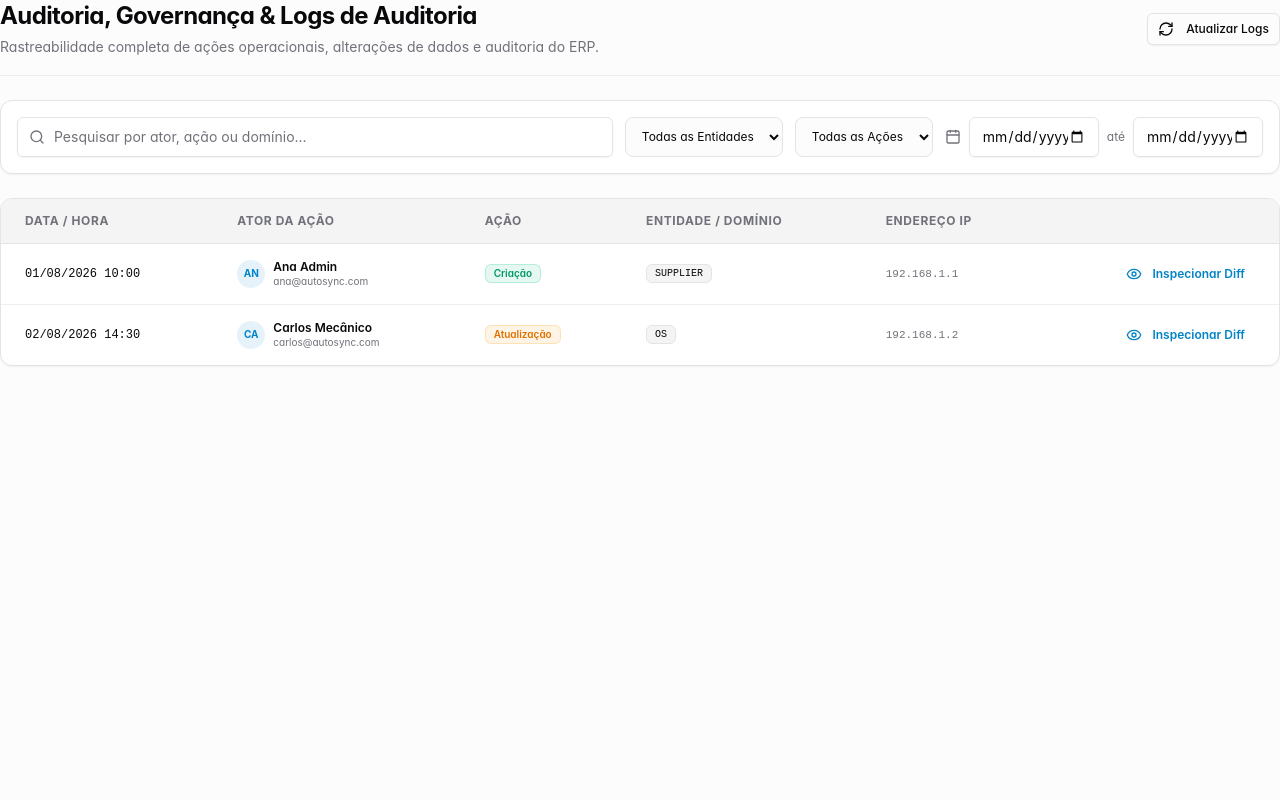
Audit & AuditDiff Module (Phase 2) › 7. should open inspection modal upon clicking Inspecionar Diff button
This screenshot has width=1280, height=800.
Expected: the text "Ana Admin" is shown, [273,259,337,274]
Step 1. Click the button "Inspecionar Diff" in the row of "01/08/2026 10:00" → (1186, 274), box [1116,258,1255,290]
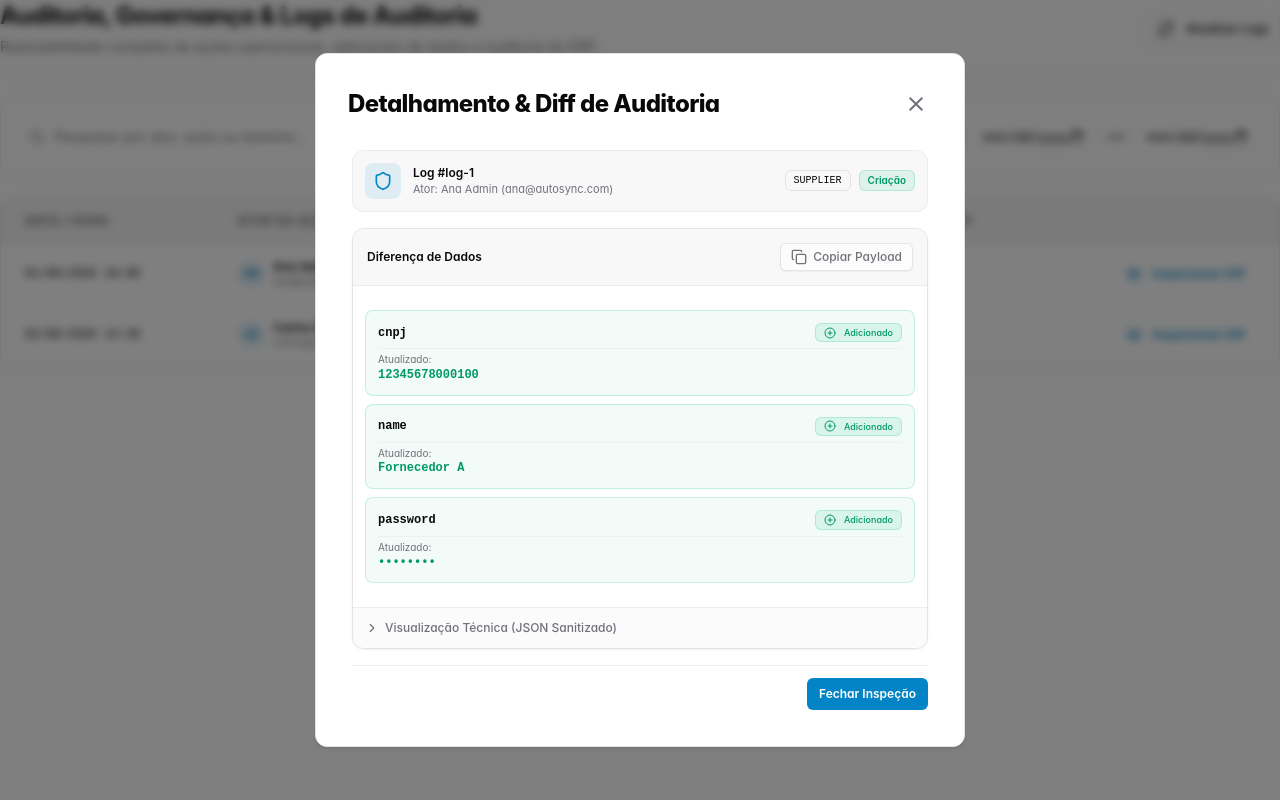
Expected: the heading "Detalhamento & Diff de Auditoria" is shown, [348,86,720,122]
Expected: the text "password" is shown, [378,512,436,528]
Expected: the text "••••••••" is shown, [378,555,436,569]
